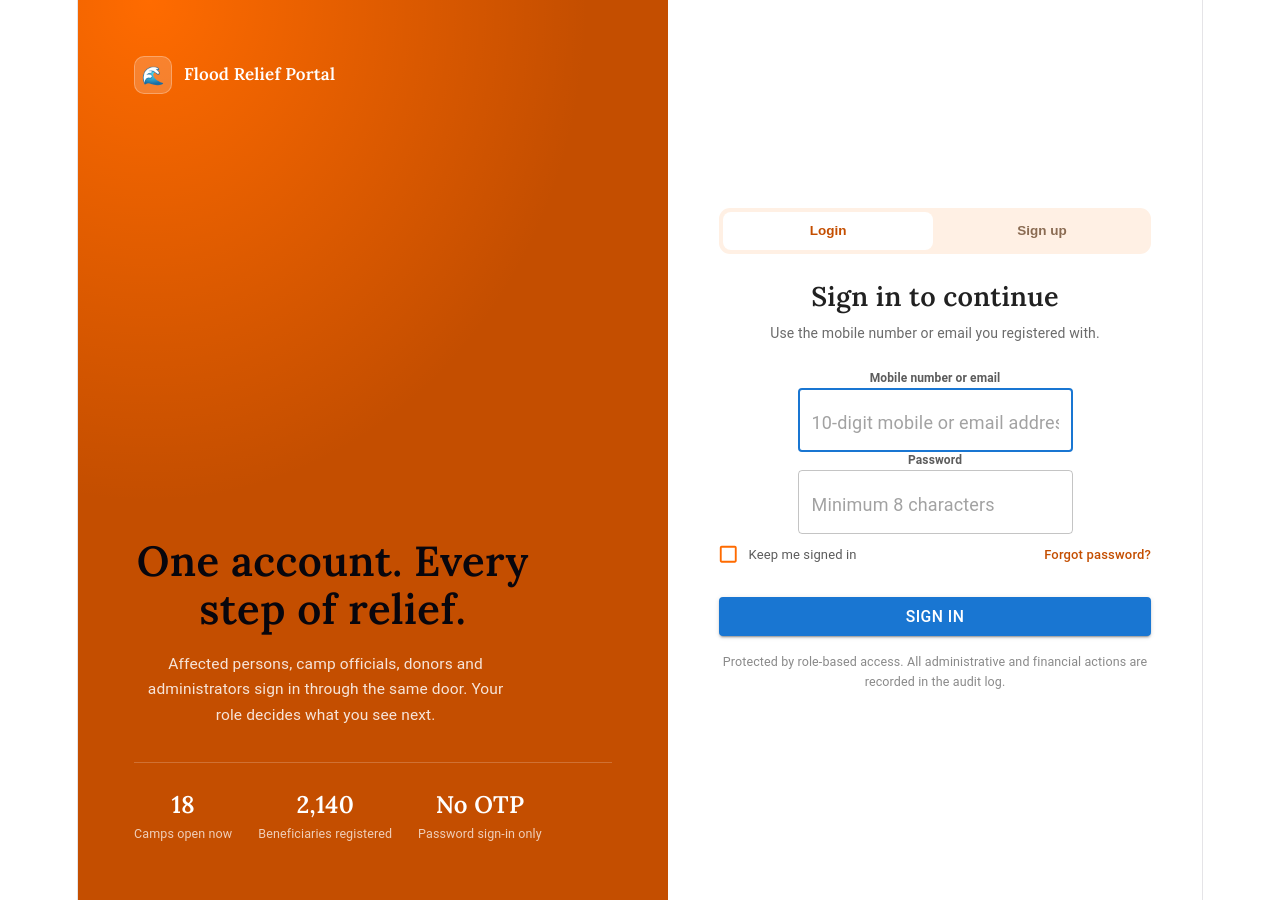
Scenario: LoginPage › shows the server message when credentials are rejected
Type "9876543210" into the field labelled "Mobile number or email" at (935, 423), box [798,393,1072,452]
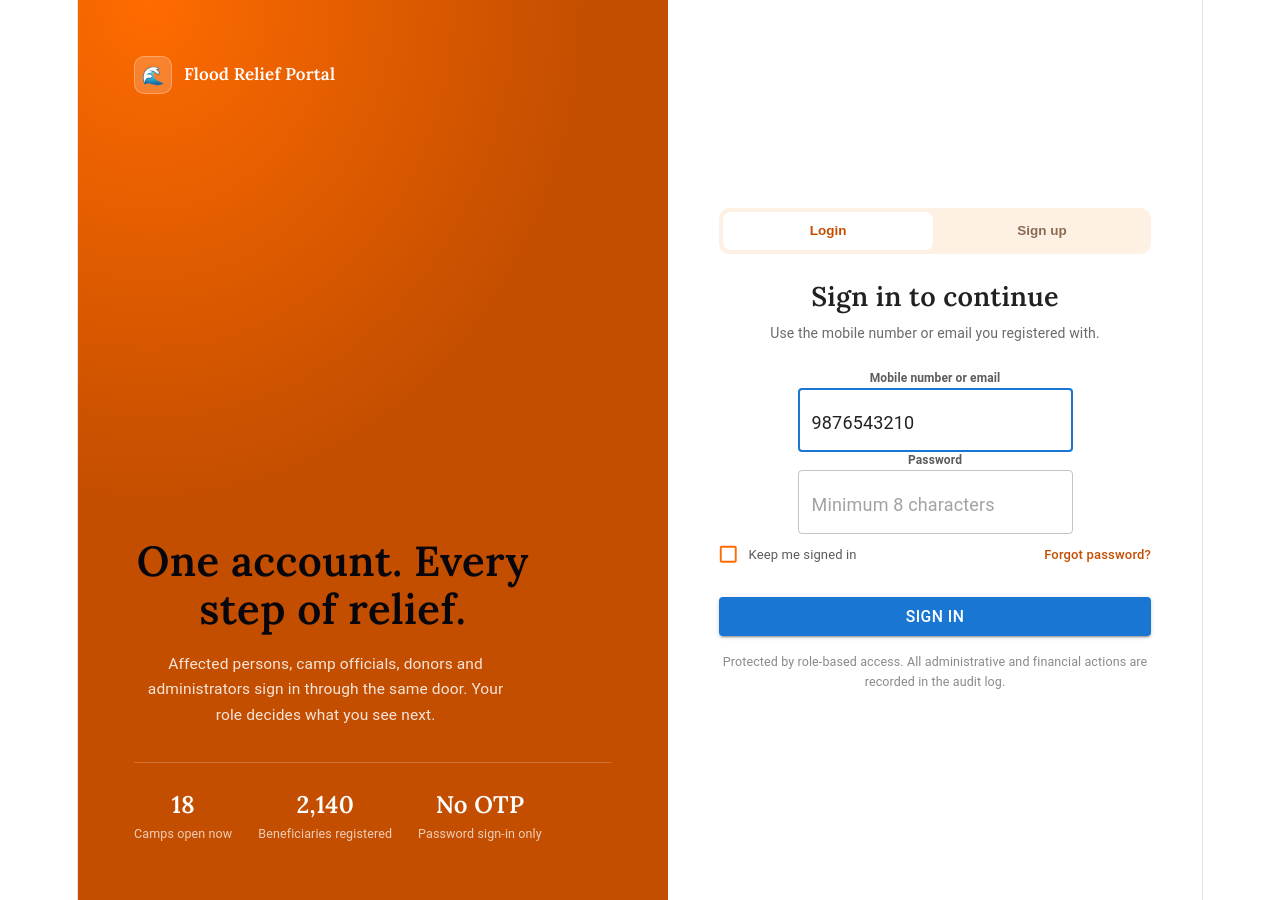
Type "wrong password!!" into the password field labelled "Password" at (935, 505), box [798,475,1072,534]
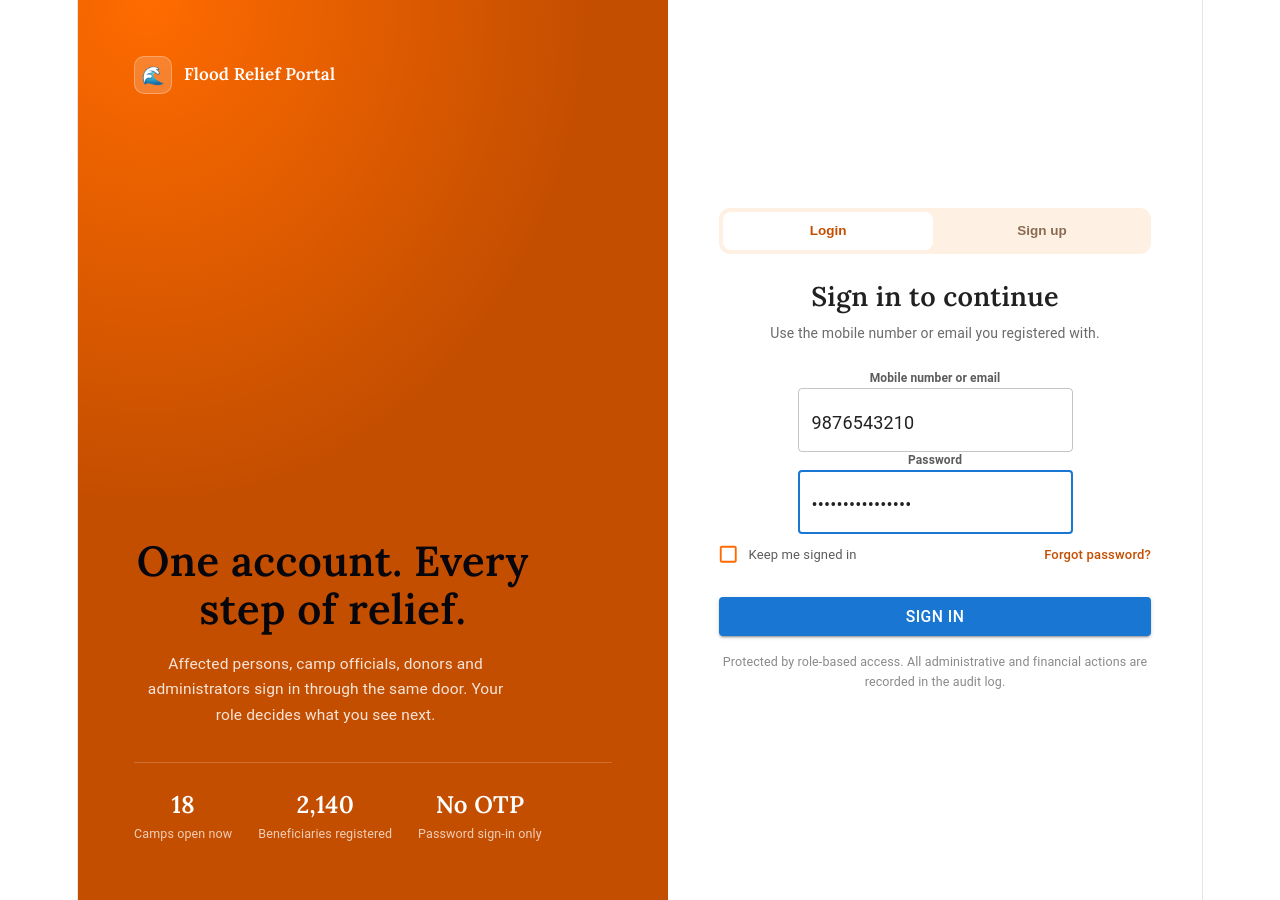
Click the button "Sign in" at (935, 616), box [719,597,1151,636]
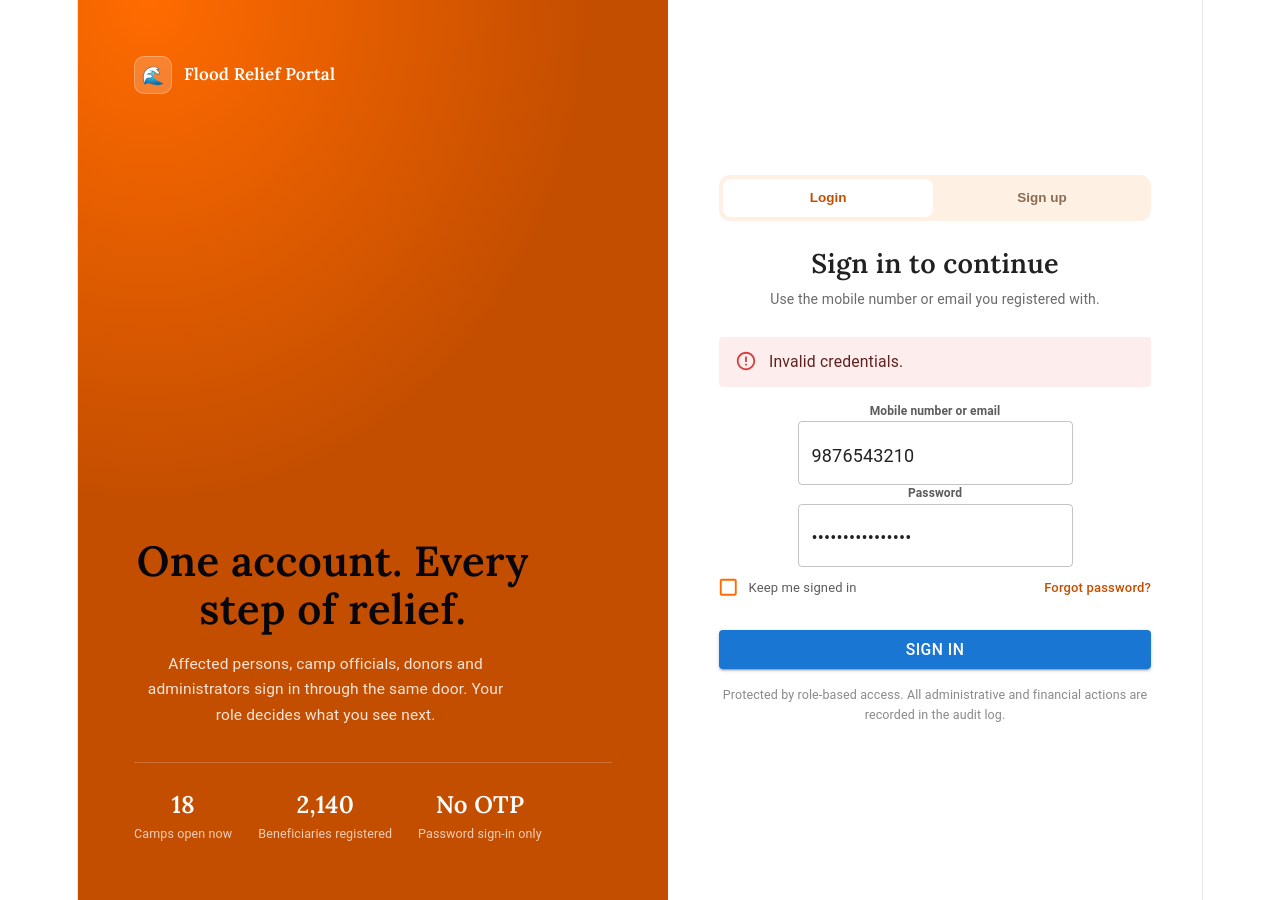
Expected: the text "Invalid credentials." is shown, [769,352,903,371]
